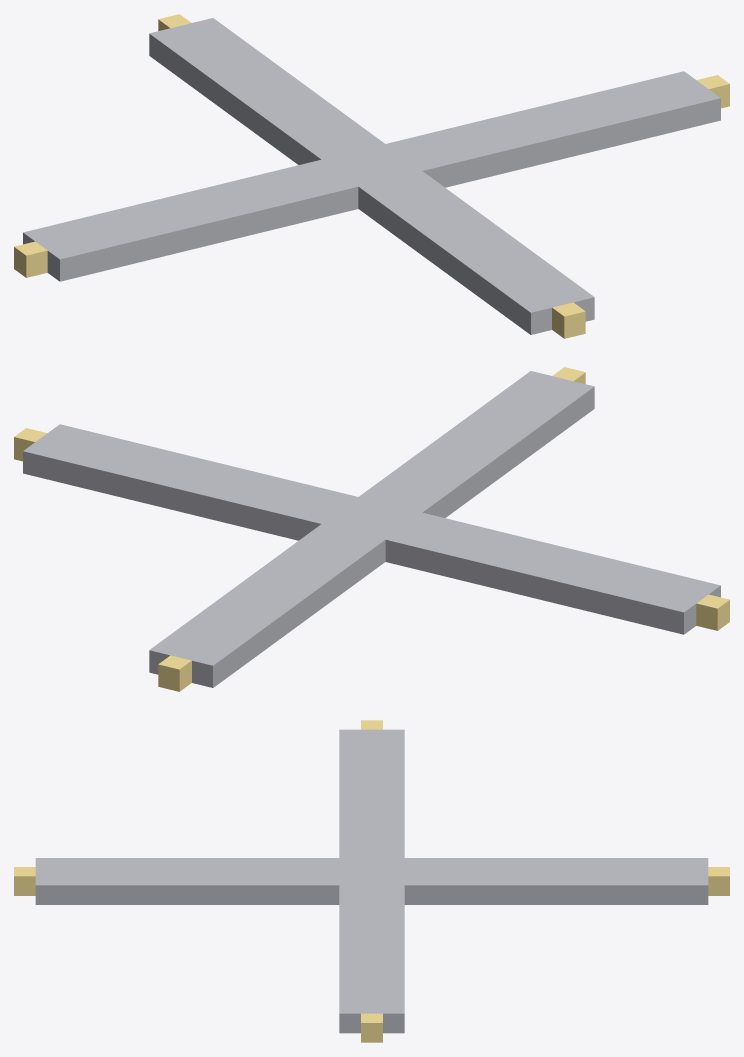
The model's file is vox_boom_star.glb.
The picture shows the model from 3 angles, top to bottom: view 1: azimuth 30°, elevation 25°; view 2: azimuth 150°, elevation 25°; view 3: azimuth 270°, elevation 25°; orthographic projection. The views are drawn at different scales.
Parts seen in each view (by area): view 1: vox_boom_star; view 2: vox_boom_star; view 3: vox_boom_star.
Part boxes in pixels (x1,y1,x2,y2): vox_boom_star: (14, 14, 729, 338); vox_boom_star: (14, 367, 729, 691); vox_boom_star: (14, 720, 729, 1042).
Size of the model in its own units: 0.66 by 0.02 by 0.66.
